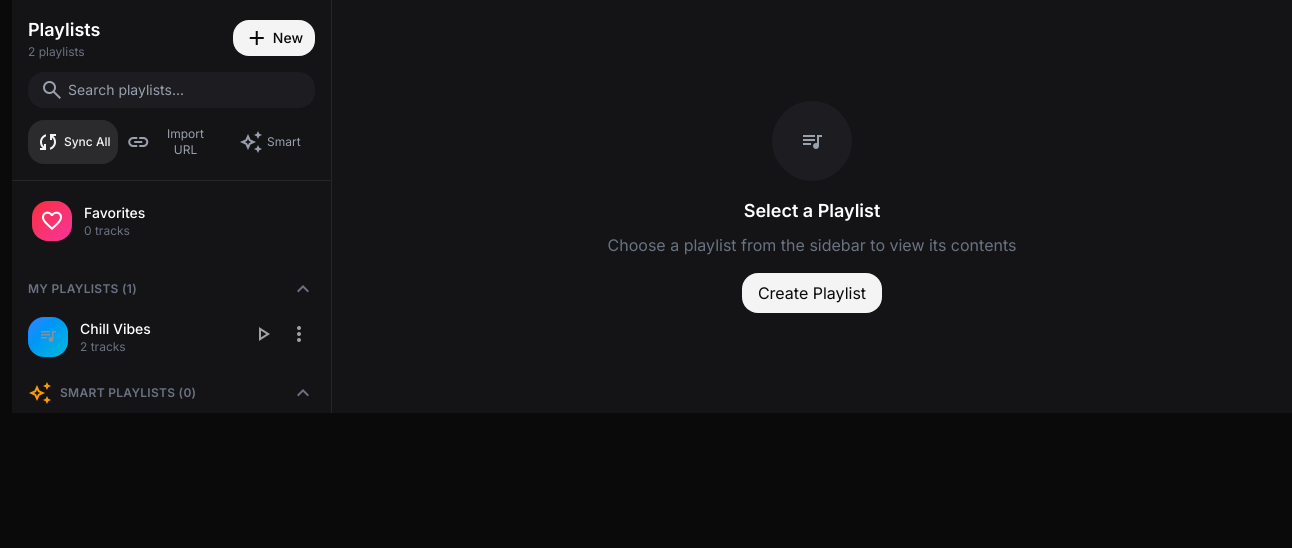
PlaylistView — estados de carga y error (auditoría 5) › una playlist realmente vacía muestra el estado vacío
Click the element showing "Chill Vibes 2 tracks": [48, 337] box [20,309,323,365]
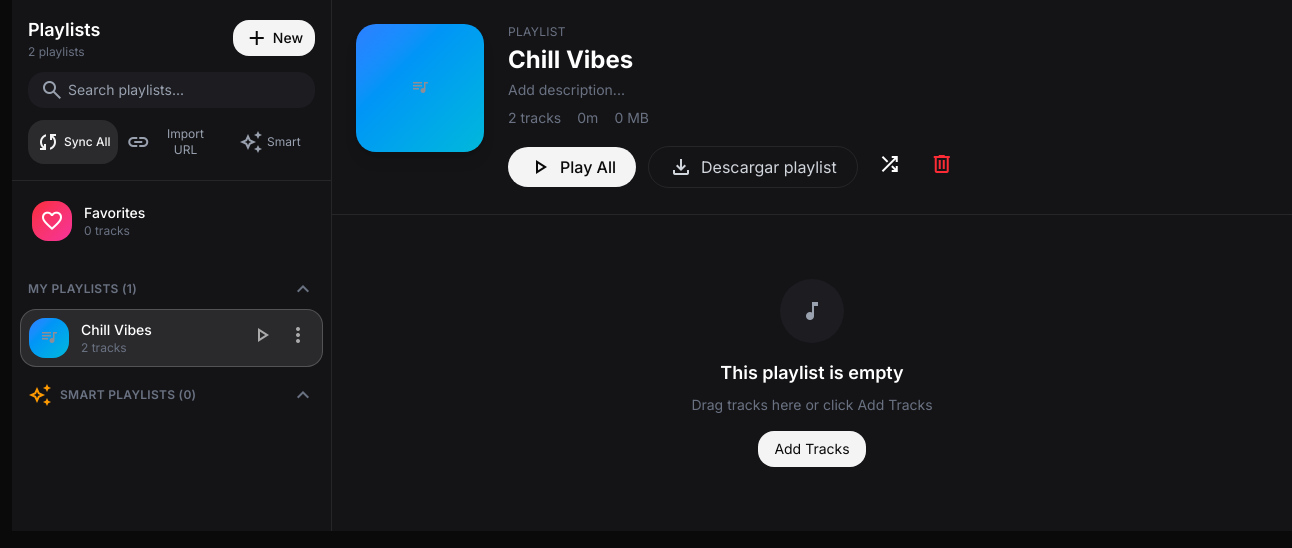
expect the element with test id "playlist-tracks-empty" is shown: met, box [691,279,933,467]
